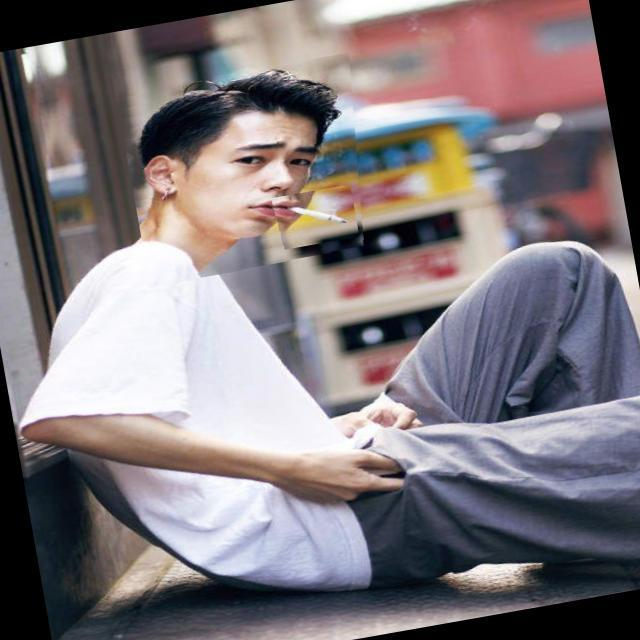cigarette: (271, 184, 359, 250)
